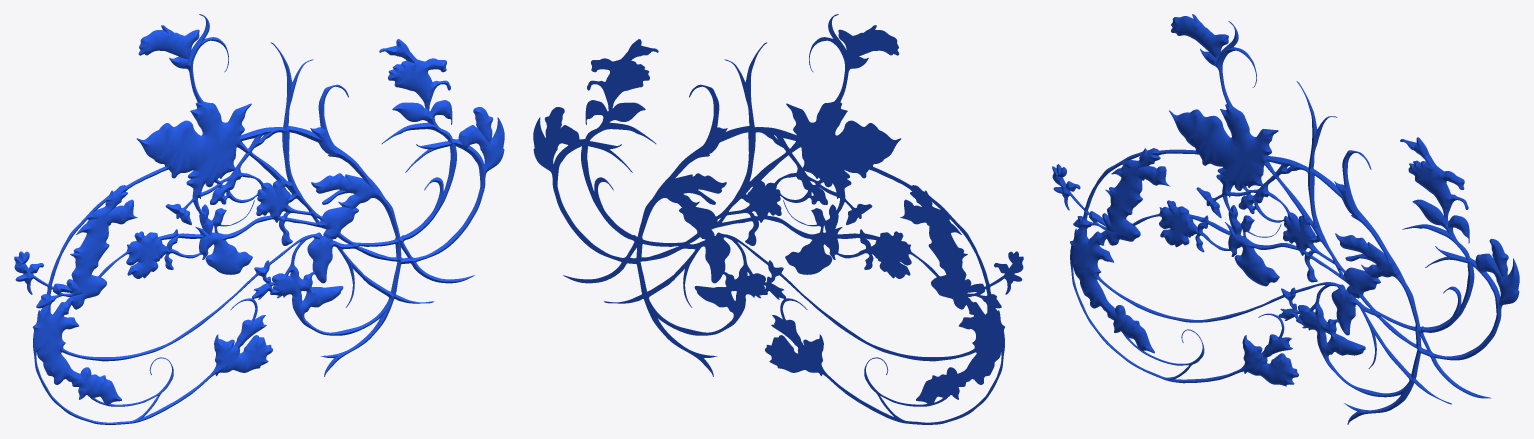
File: plant3@.gltf
3 views of the same model, side by side, from view 1: azimuth 30°, elevation 25°; view 2: azimuth 150°, elevation 25°; view 3: azimuth 330°, elevation 25° (orthographic). The views are drawn at different scales.
Bounding box in the file's own units: 4.77 × 3.66 × 0.0277.
